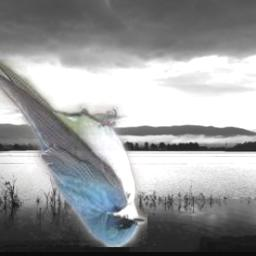Swallow: (0, 59, 149, 247)
